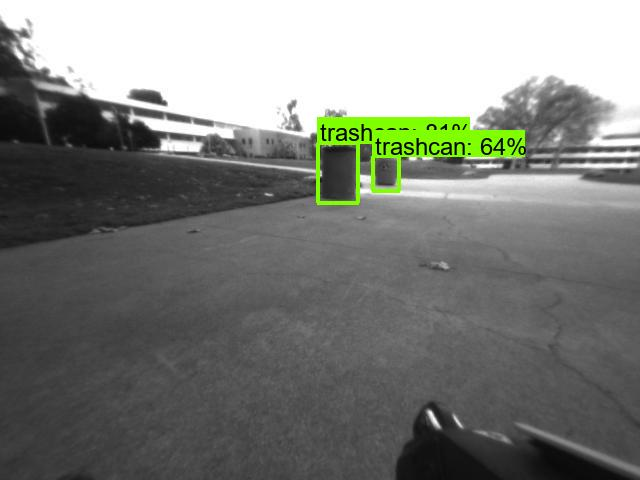trashcan: (321, 144, 362, 201), (376, 153, 396, 191)
